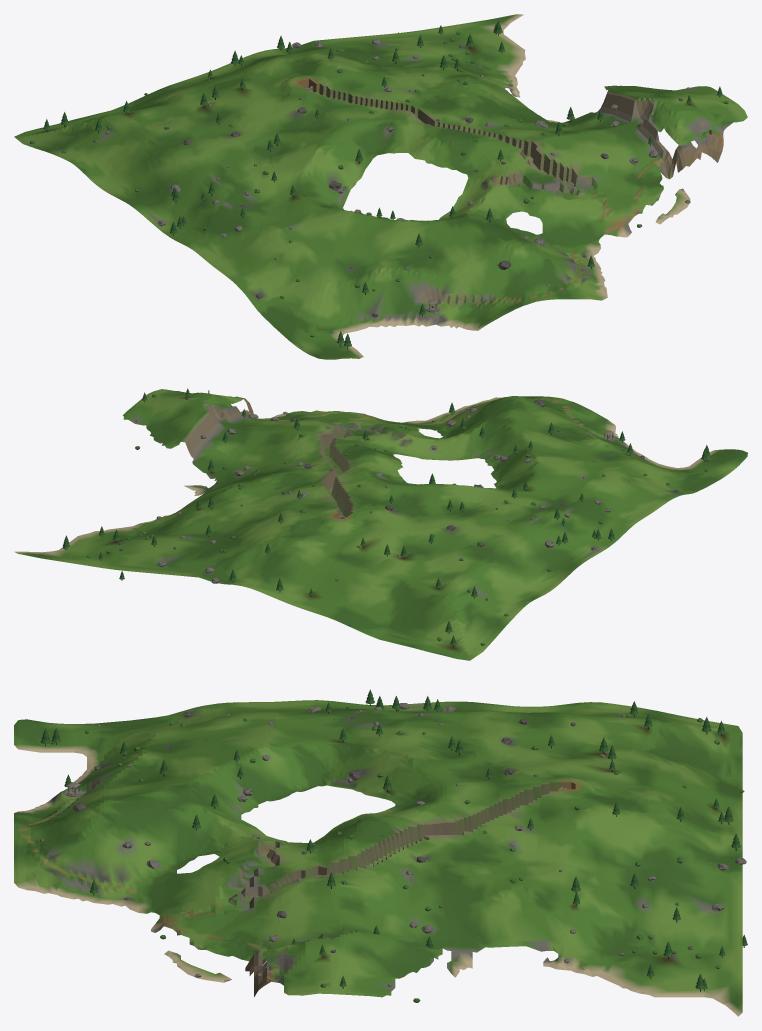
File: arch_isl_gullhaven_lod1.glb
The picture shows the model from 3 angles, top to bottom: view 1: azimuth 30°, elevation 25°; view 2: azimuth 150°, elevation 25°; view 3: azimuth 270°, elevation 25°; orthographic projection. The views are drawn at different scales.
Parts seen in each view (by area): view 1: geometry_0; view 2: geometry_0; view 3: geometry_0.
Part boxes in pixels (x1,y1,x2,y2): geometry_0: (14, 14, 747, 359); geometry_0: (14, 388, 747, 660); geometry_0: (14, 689, 747, 1016).
Bounding box in the file's own units: 340 × 39.43 × 342.
